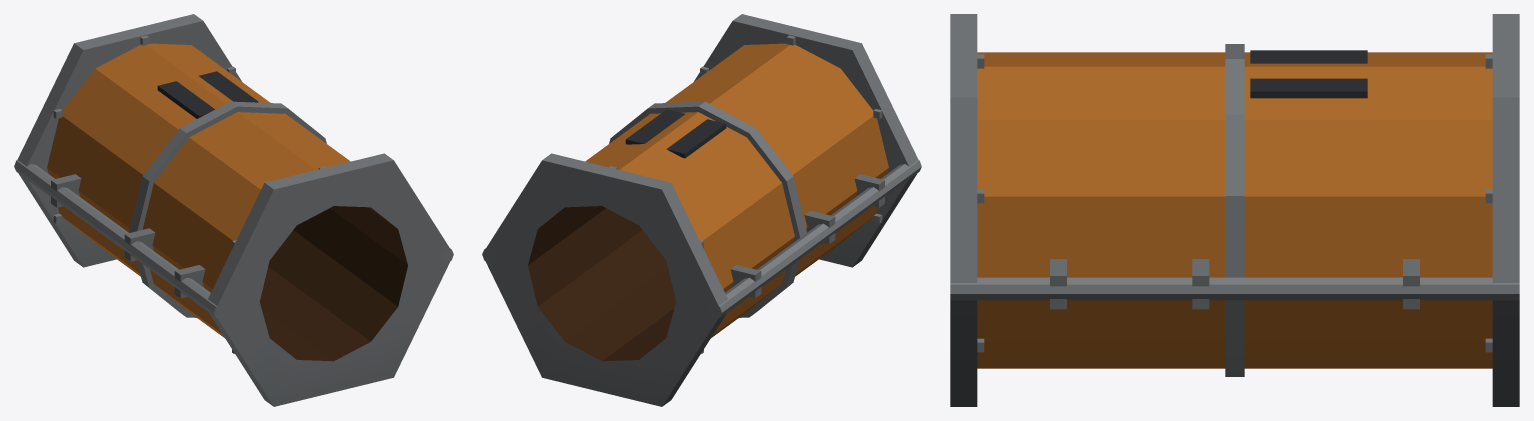
Rendered from pipe.coolant.orange.glb.
The picture shows the model from 3 angles, left to right: view 1: azimuth 30°, elevation 25°; view 2: azimuth 150°, elevation 25°; view 3: azimuth 270°, elevation 25°; orthographic projection. The views are drawn at different scales.
Visible parts, largest first — view 1: pipe_coolant_orange; view 2: pipe_coolant_orange; view 3: pipe_coolant_orange.
Boxes of the visible parts, left/top/right/bottom form: pipe_coolant_orange: left=14, top=14, right=453, bottom=406; pipe_coolant_orange: left=482, top=14, right=921, bottom=406; pipe_coolant_orange: left=950, top=14, right=1519, bottom=406.
Size of what is drawn, in the model's own units: 1.62 by 1.4 by 2.33.
